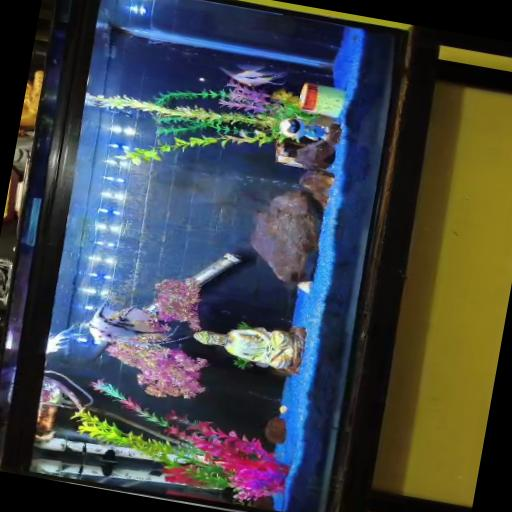Fish: (89, 303, 156, 344), (221, 65, 286, 86)
